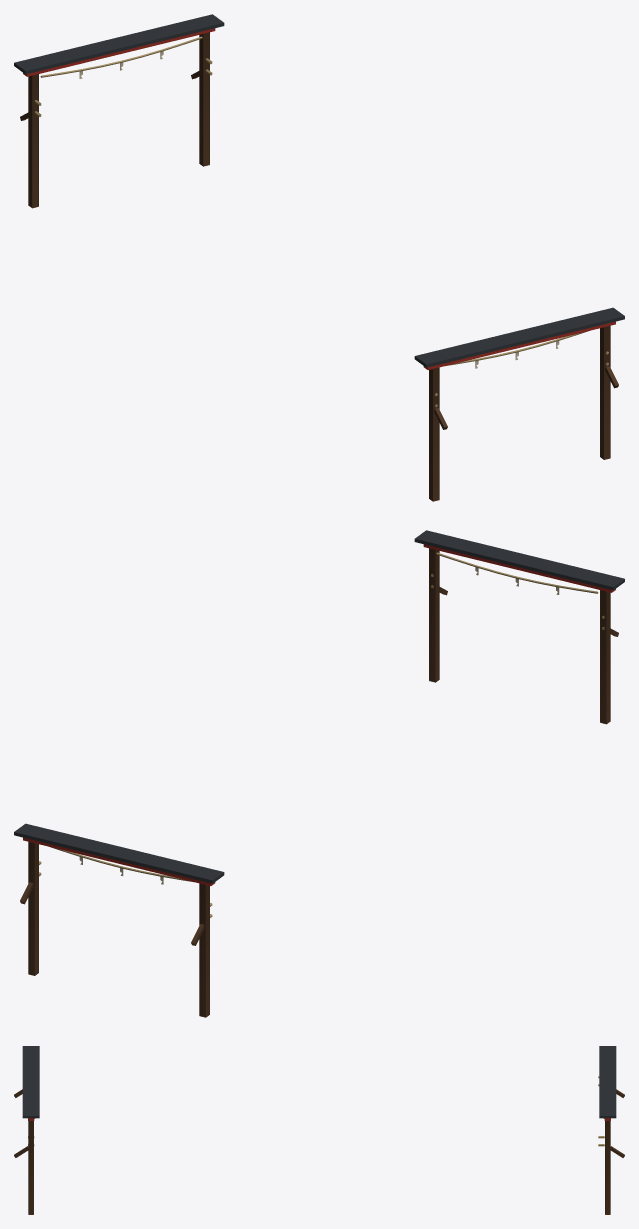
The model's file is prop.bamboo_bridge.glb.
3 views of the same model, one above another, from view 1: azimuth 30°, elevation 25°; view 2: azimuth 150°, elevation 25°; view 3: azimuth 270°, elevation 25° (orthographic). The views are drawn at different scales.
Parts seen in each view (by area): view 1: bamboo_bridge; view 2: bamboo_bridge; view 3: bamboo_bridge.
Boxes of the visible parts, x1,y1,x2,y2 form: bamboo_bridge: (14,14,624,501); bamboo_bridge: (14,530,624,1017); bamboo_bridge: (14,1046,624,1214).
Size of the model in its own units: 15.8 by 10.85 by 58.48.
